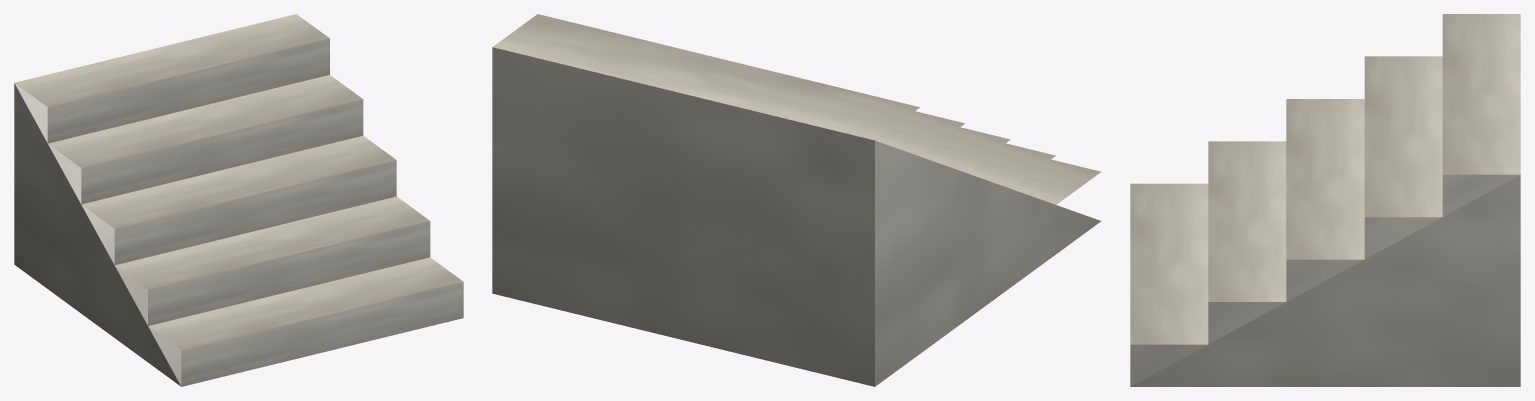
File: stairs_stone_09_01.glb
3 views of the same model, side by side, from view 1: azimuth 30°, elevation 25°; view 2: azimuth 150°, elevation 25°; view 3: azimuth 270°, elevation 25° (orthographic). The views are drawn at different scales.
Visible parts, largest first — view 1: stairs_stone_09_01; view 2: stairs_stone_09_01; view 3: stairs_stone_09_01.
Part boxes in pixels (<box>): stairs_stone_09_01: <box>14,14,463,386</box>; stairs_stone_09_01: <box>492,14,1101,386</box>; stairs_stone_09_01: <box>1130,14,1520,386</box>.
Size of the model in its own units: 1.46 by 0.9 by 1.5.
Materials: 1 (1 with a texture image).
